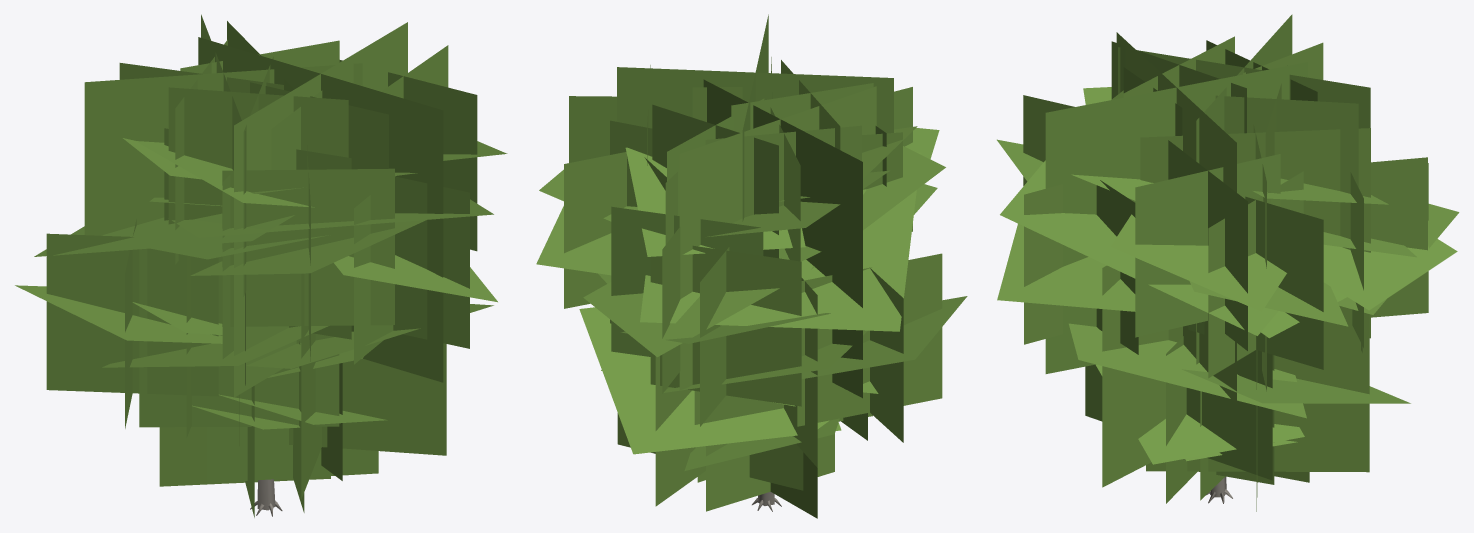
Rendered from tilleul_1_f2_loin.glb.
3 renders of one model, left to right at view 1: azimuth 30°, elevation 25°; view 2: azimuth 150°, elevation 25°; view 3: azimuth 270°, elevation 25°, orthographic. The views are drawn at different scales.
Visible parts, largest first — view 1: Tilleul_T1_f2_Leger_Loin; view 2: Tilleul_T1_f2_Leger_Loin; view 3: Tilleul_T1_f2_Leger_Loin.
Boxes of the visible parts, x1,y1,x2,y2 form: Tilleul_T1_f2_Leger_Loin: (15, 14, 507, 517); Tilleul_T1_f2_Leger_Loin: (536, 14, 967, 518); Tilleul_T1_f2_Leger_Loin: (997, 14, 1459, 511).
Size of the model in its own units: 7.5 by 7.42 by 7.31.
